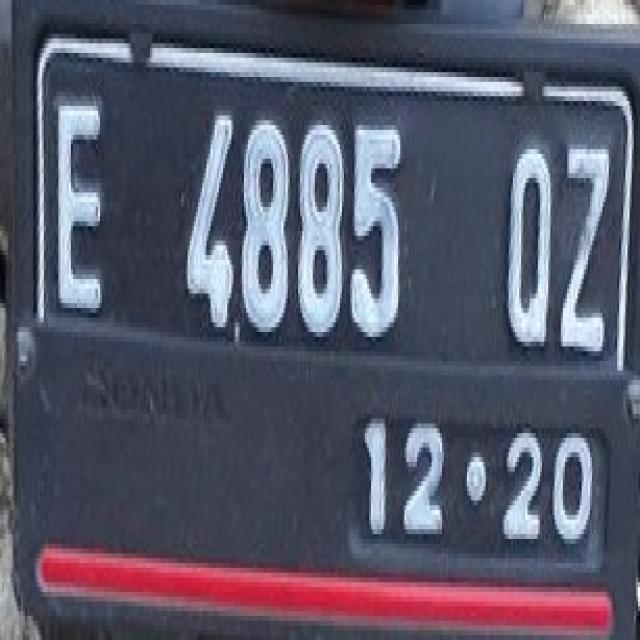plate: (36, 24, 632, 592)
